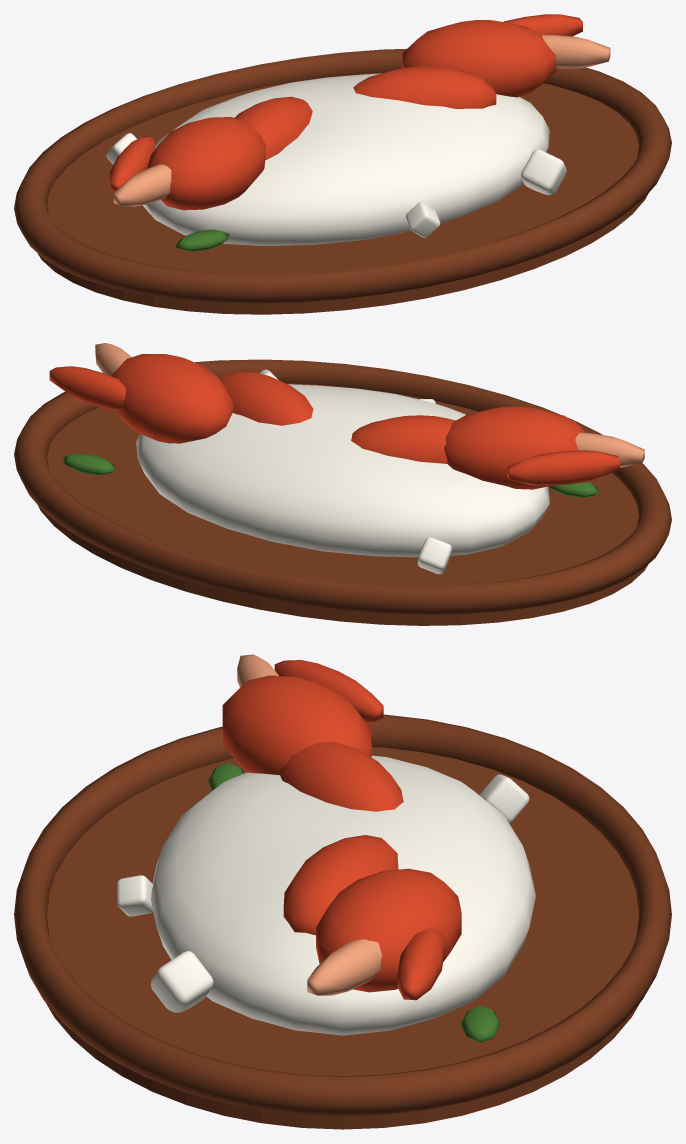
File: krebsscheren_salzkruste.glb
The picture shows the model from 3 angles, top to bottom: view 1: azimuth 30°, elevation 25°; view 2: azimuth 150°, elevation 25°; view 3: azimuth 270°, elevation 25°; orthographic projection. The views are drawn at different scales.
Visible parts, largest first — view 1: Sphere, Cylinder, Torus, Sphere.002, Sphere.006, Sphere.005, Sphere.001, Sphere.003, Sphere.007, Cube, Sphere.004, Sphere.008 (+2 smaller); view 2: Sphere, Cylinder, Torus, Sphere.006, Sphere.002, Sphere.001, Sphere.005, Sphere.004, Sphere.008, Sphere.003, Cube.001, Sphere.010 (+2 smaller); view 3: Cylinder, Sphere, Torus, Sphere.002, Sphere.006, Sphere.001, Sphere.005, Sphere.007, Cube, Sphere.008, Sphere.004, Cube.001 (+3 smaller).
Boxes of the visible parts, x1,y1,x2,y2 form: Sphere: (143,73,549,246); Cylinder: (37,72,648,314); Torus: (14,48,671,303); Sphere.002: (147,117,265,210); Sphere.006: (402,20,556,97); Sphere.005: (353,66,496,108); Sphere.001: (234,96,312,160); Sphere.003: (113,164,171,206); Sphere.007: (541,34,610,68); Cube: (521,149,566,195); Sphere.004: (110,136,155,192); Sphere.008: (503,14,582,36); Sphere: (136,384,549,557); Cylinder: (38,383,647,625); Torus: (14,359,671,614); Sphere.006: (111,354,233,443); Sphere.002: (444,406,586,489); Sphere.001: (351,415,455,463); Sphere.005: (219,371,313,425); Sphere.004: (507,450,620,485); Sphere.008: (49,366,125,410); Sphere.003: (575,432,644,467); Cube.001: (417,537,451,574); Sphere.010: (62,453,116,475); Cylinder: (46,747,639,1129); Sphere: (151,755,535,1035); Torus: (14,714,671,1116); Sphere.002: (222,675,371,775); Sphere.006: (316,868,461,992); Sphere.001: (280,741,403,811); Sphere.005: (283,835,398,935); Sphere.007: (307,939,382,995); Cube: (150,951,213,1012); Sphere.008: (397,928,444,1000); Sphere.004: (274,660,383,722); Cube.001: (479,774,529,822).
Size of the model in its own units: 0.3938 by 0.088 by 0.2864.
